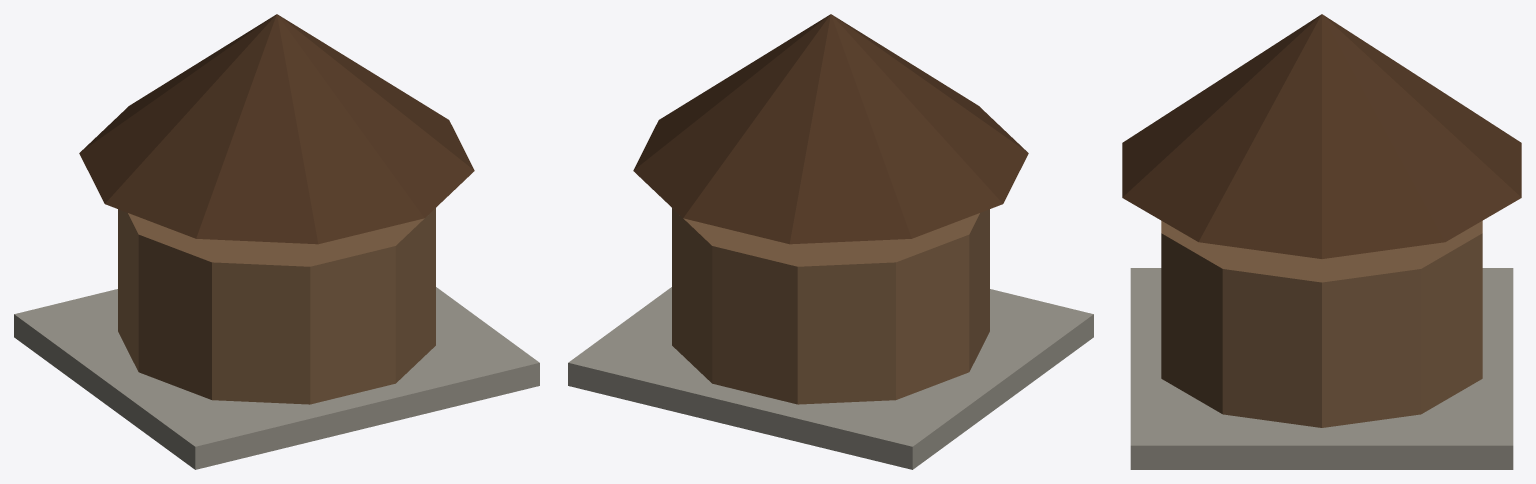
Rendered from bld_residential_a01_lod1.glb.
3 views of the same model, side by side, from view 1: azimuth 30°, elevation 25°; view 2: azimuth 150°, elevation 25°; view 3: azimuth 270°, elevation 25° (orthographic). The views are drawn at different scales.
Parts seen in each view (by area): view 1: body; view 2: body; view 3: body.
Part boxes in pixels (x1,y1,x2,y2): body: (14, 14, 539, 469); body: (568, 14, 1093, 469); body: (1122, 14, 1521, 469).
Bounding box in the file's own units: 5.6 × 5.4 × 5.33.
